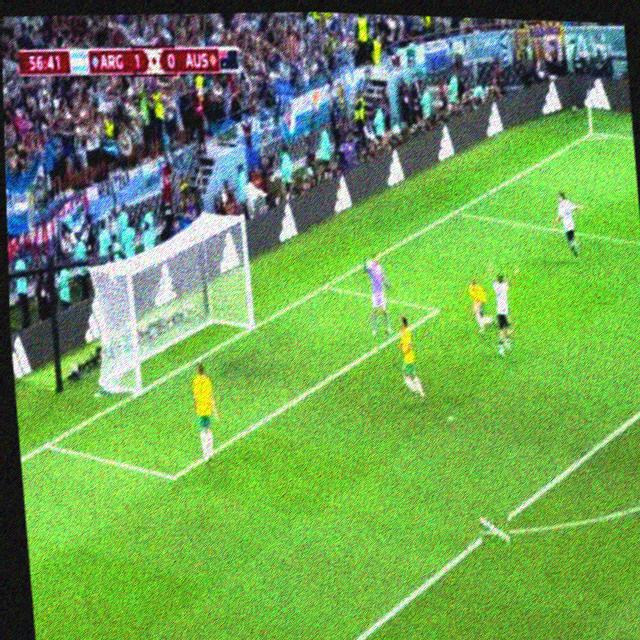bigarea_top_outter: (448, 203, 463, 221)
corner: (586, 130, 605, 142)
smallarea_bottom_inner: (163, 460, 186, 495)
smallarea_bottom_outter: (38, 431, 58, 458)
smallarea_top_inner: (424, 297, 449, 325)
smallarea_top_outter: (319, 276, 334, 298)
top_arc_area_intersection: (479, 515, 510, 548)
